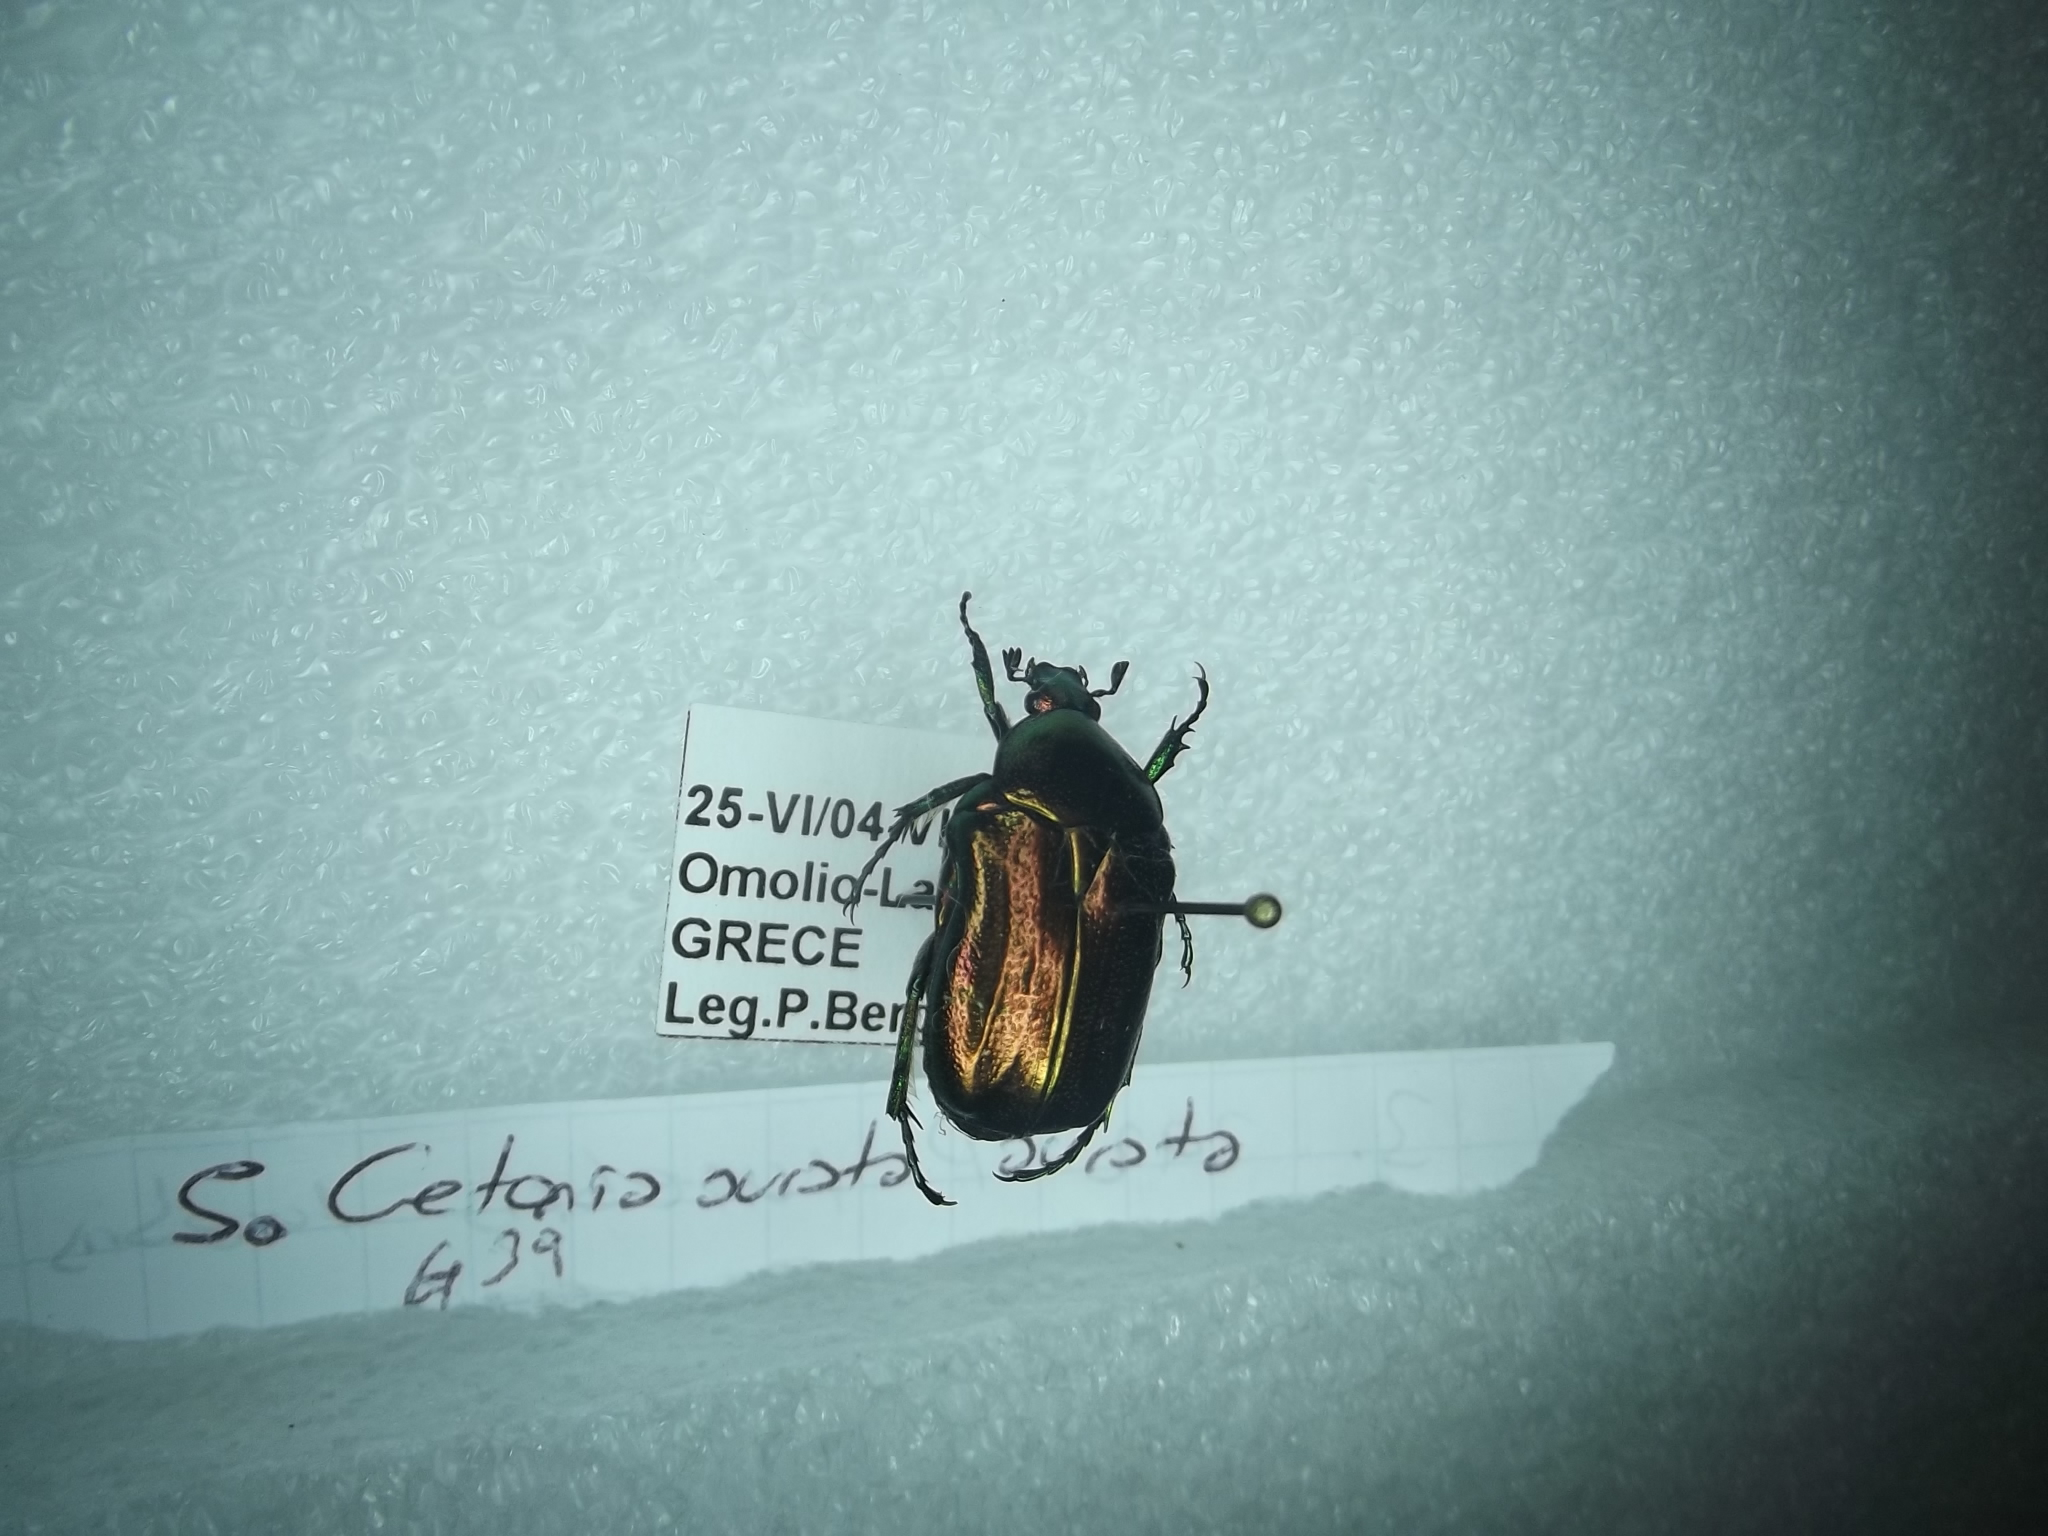Cetonia_aurata: (843, 584, 1305, 1205)
